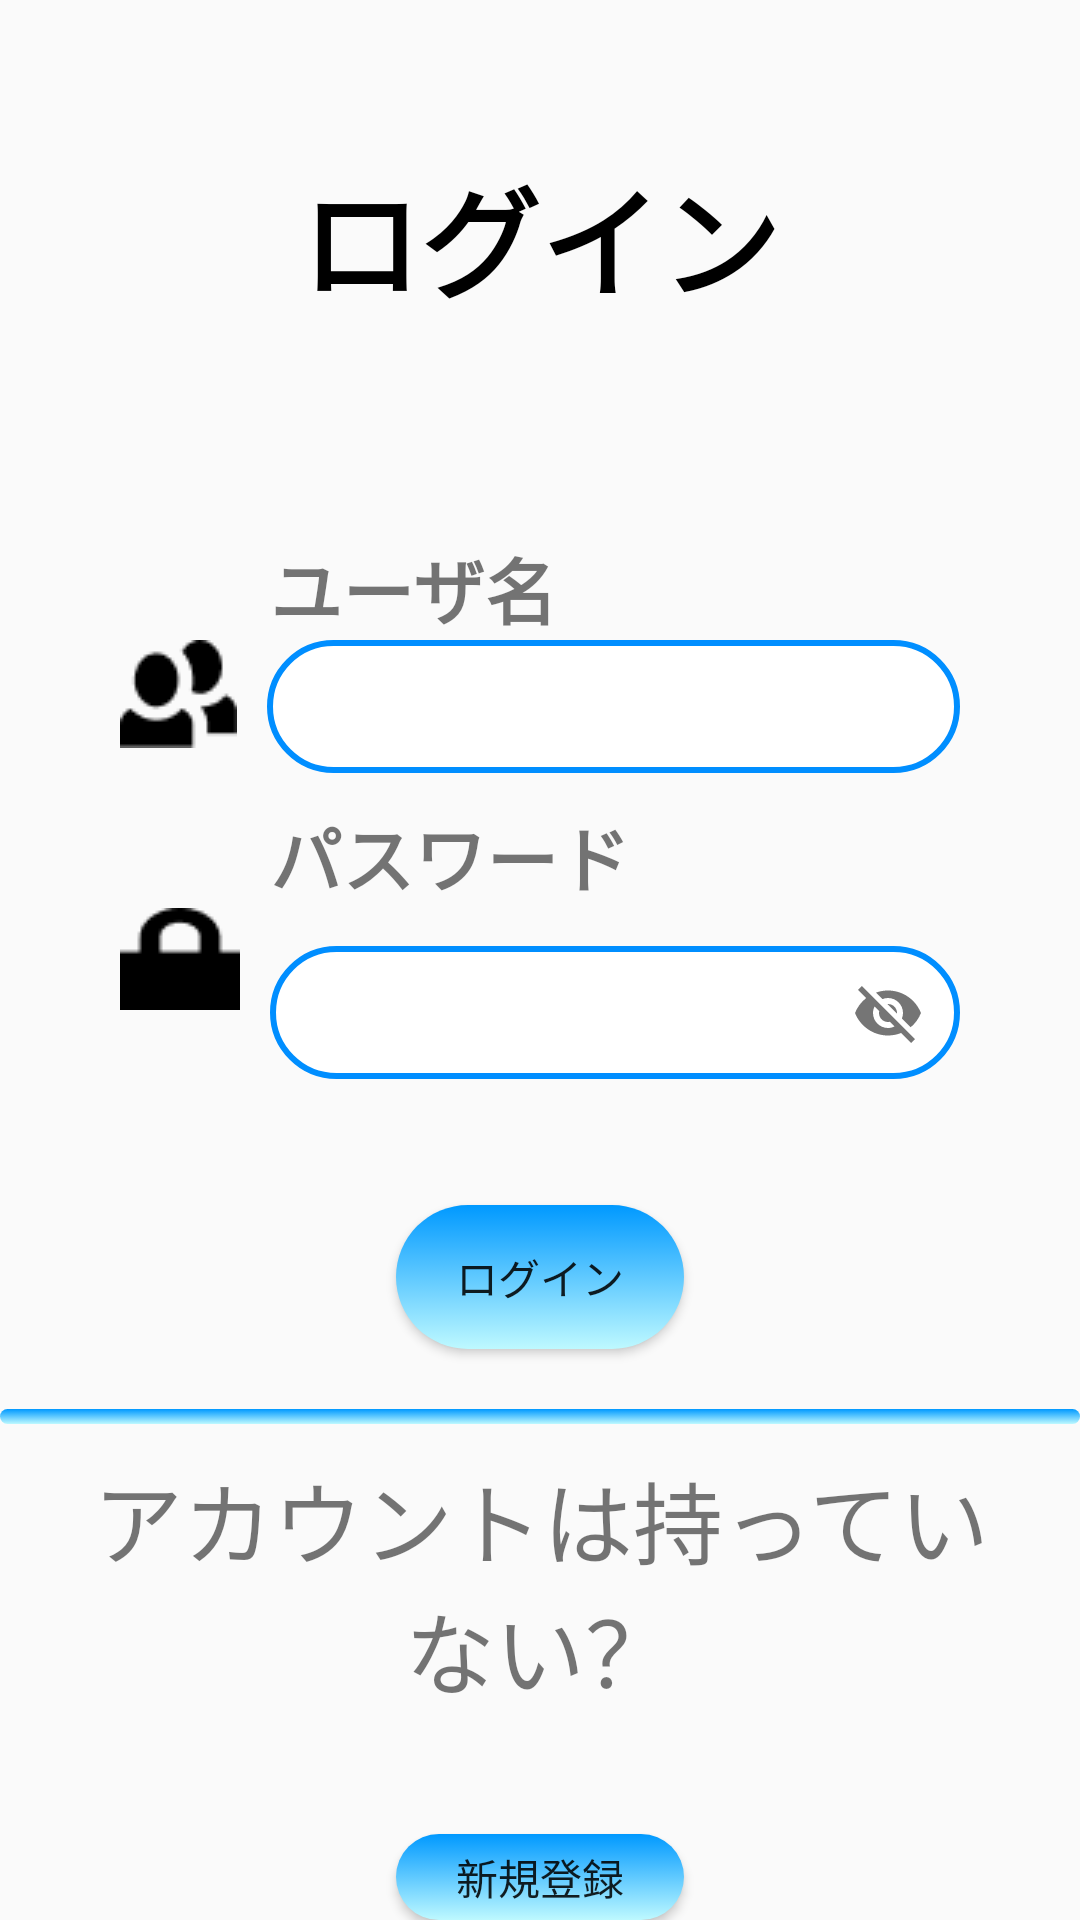

Named icons in this screenshot (1080px x 1920px) and their centers, point (x, y):
system password: point (180, 959)
system userinput: point (178, 694)
